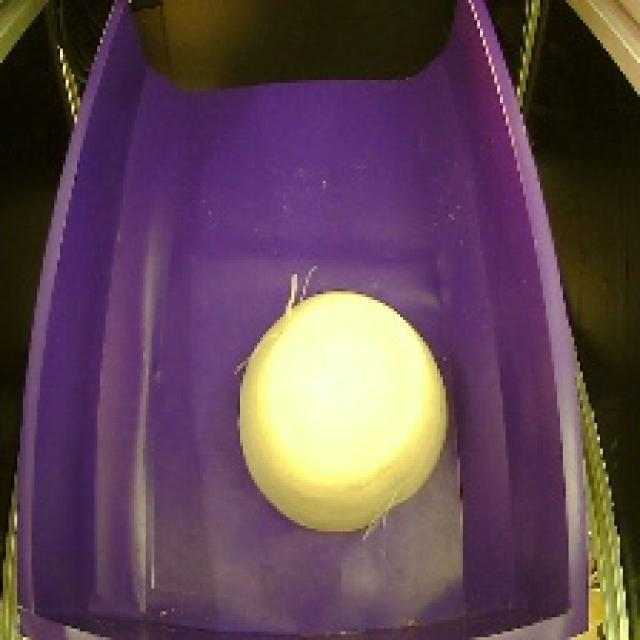white_radish: (226, 259, 457, 553)
